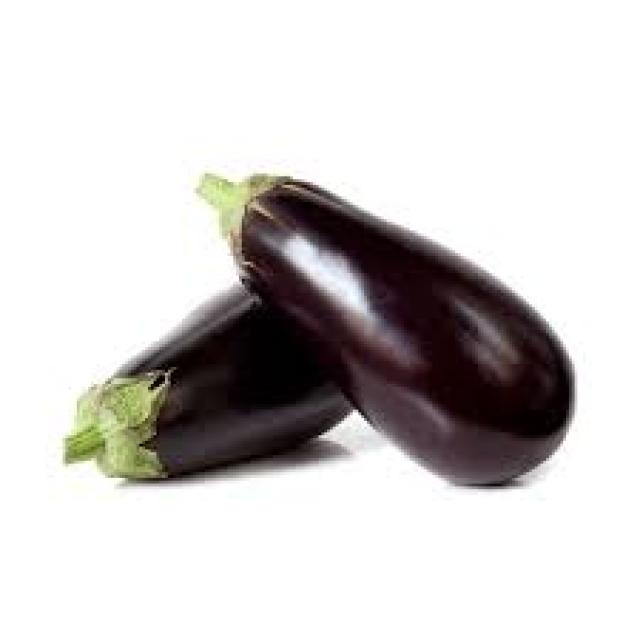eggplant: (222, 165, 569, 478), (80, 279, 361, 475)
